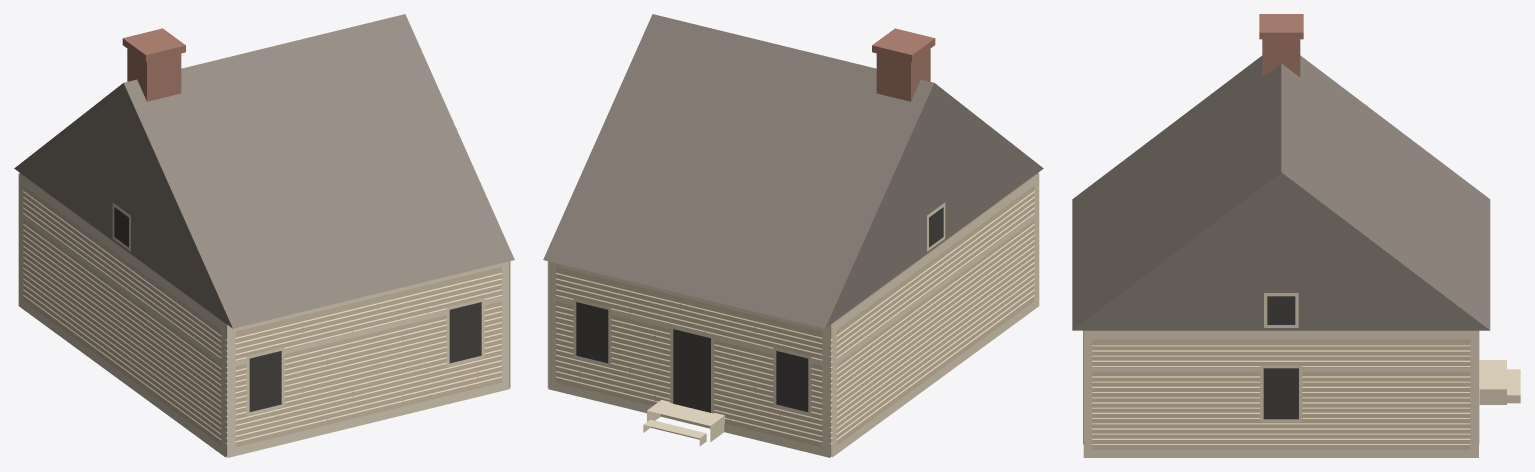
Rendered from recon_1835_blk_randolph_franklin_d6_01__inferred_1835.glb.
3 views of the same model, side by side, from view 1: azimuth 30°, elevation 25°; view 2: azimuth 150°, elevation 25°; view 3: azimuth 270°, elevation 25° (orthographic). The views are drawn at different scales.
Visible parts, largest first — view 1: recon_1835_blk_randolph_franklin_d6_01__inferred_1835; view 2: recon_1835_blk_randolph_franklin_d6_01__inferred_1835; view 3: recon_1835_blk_randolph_franklin_d6_01__inferred_1835.
Boxes of the visible parts, box(x1,y1,x2,y2) form: recon_1835_blk_randolph_franklin_d6_01__inferred_1835: box(14, 14, 514, 457); recon_1835_blk_randolph_franklin_d6_01__inferred_1835: box(543, 14, 1043, 457); recon_1835_blk_randolph_franklin_d6_01__inferred_1835: box(1072, 14, 1520, 457).
Size of the model in its own units: 6.97 by 7.74 by 9.92.
